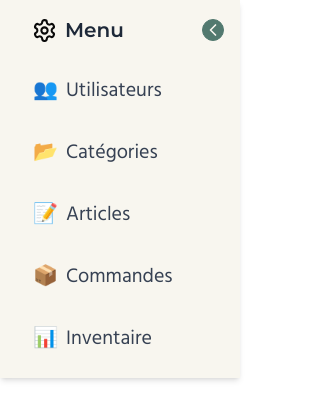
Test: AdminNavbar › toggles the menu when clicking the button
The image size is (320, 399).
Expected: the heading "Menu" is shown, [65,16,124,44]
Click the button: (213, 30) [202,19,224,41]
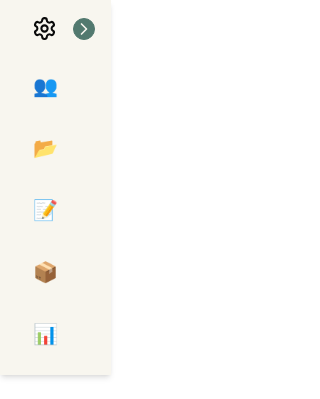
Expected: the heading "Menu" is gone
